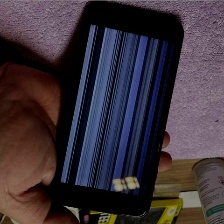phone: (44, 0, 186, 222)
